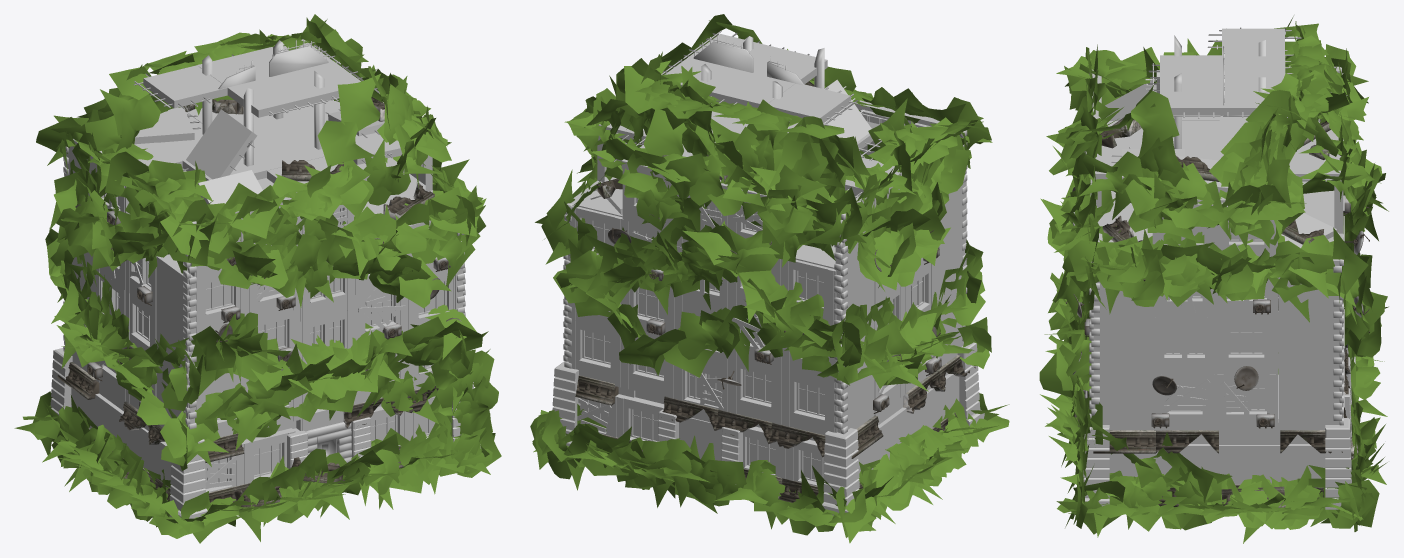
The model's file is House3.fbx.
3 views of the same model, side by side, from view 1: azimuth 30°, elevation 25°; view 2: azimuth 150°, elevation 25°; view 3: azimuth 270°, elevation 25° (orthographic).
Parts seen in each view (by area): view 1: Ivy House1; view 2: Ivy House1; view 3: Ivy House1.
Part boxes in pixels (x1,y1,x2,y2): Ivy House1: (14, 14, 501, 543); Ivy House1: (530, 14, 1009, 543); Ivy House1: (1039, 16, 1388, 543).
Bounding box in the file's own units: 2084 × 2259 × 1677.
